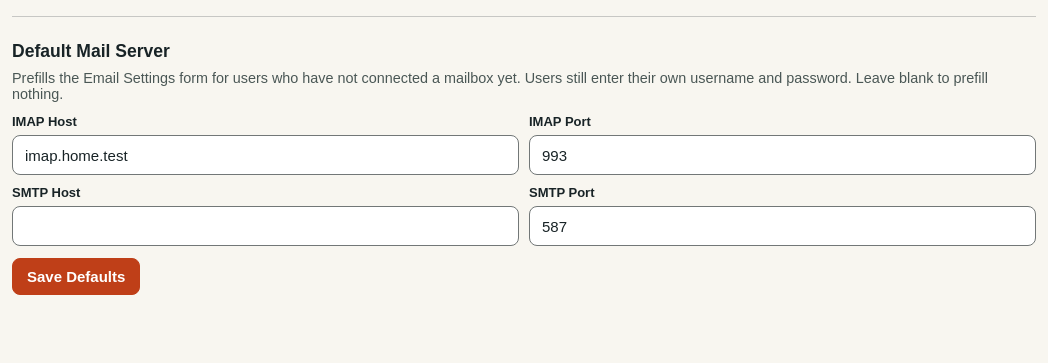
Test: MailDefaults › loads current defaults and saves edits
Expected: the field showing "imap.home.test" is shown, [12, 135, 519, 175]
Type "smtp.home.test" into the field labelled "SMTP Host". click: (266, 226)
box: [12, 206, 519, 246]
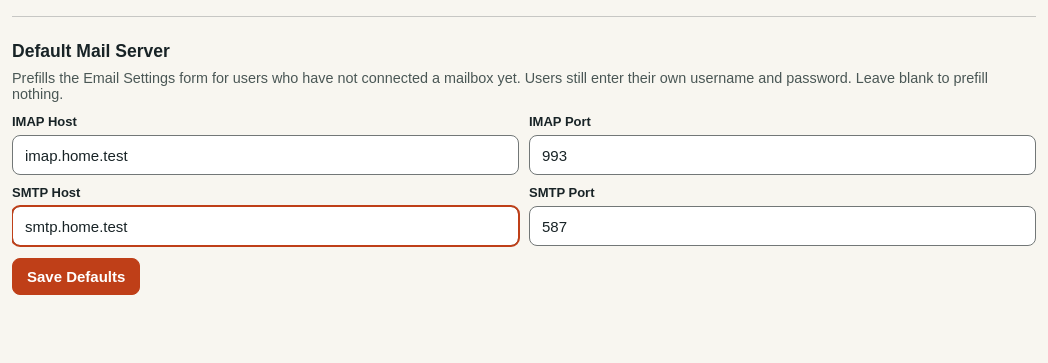
Click the button "Save Defaults". click: (76, 276)
box: [12, 258, 140, 295]
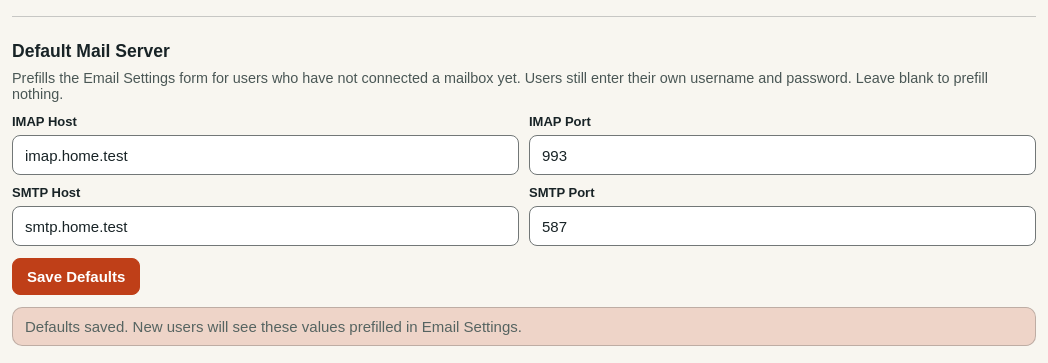
Now the text "Defaults saved" is shown, box [25, 318, 522, 335]
